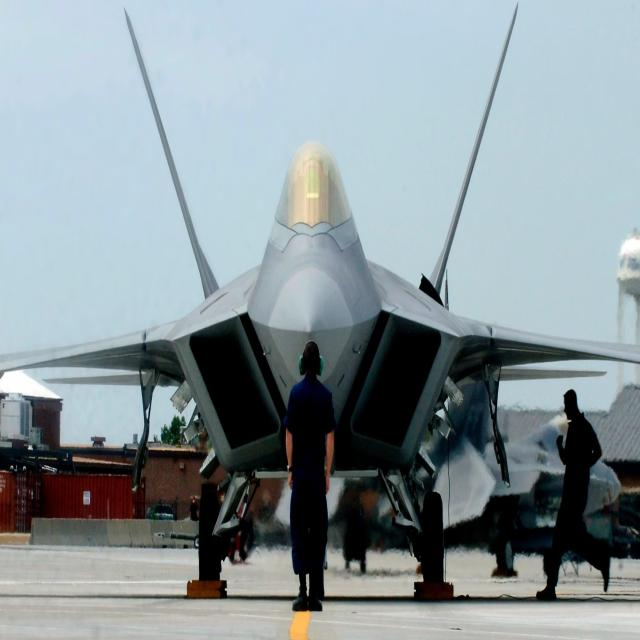F22: (4, 18, 636, 555)
